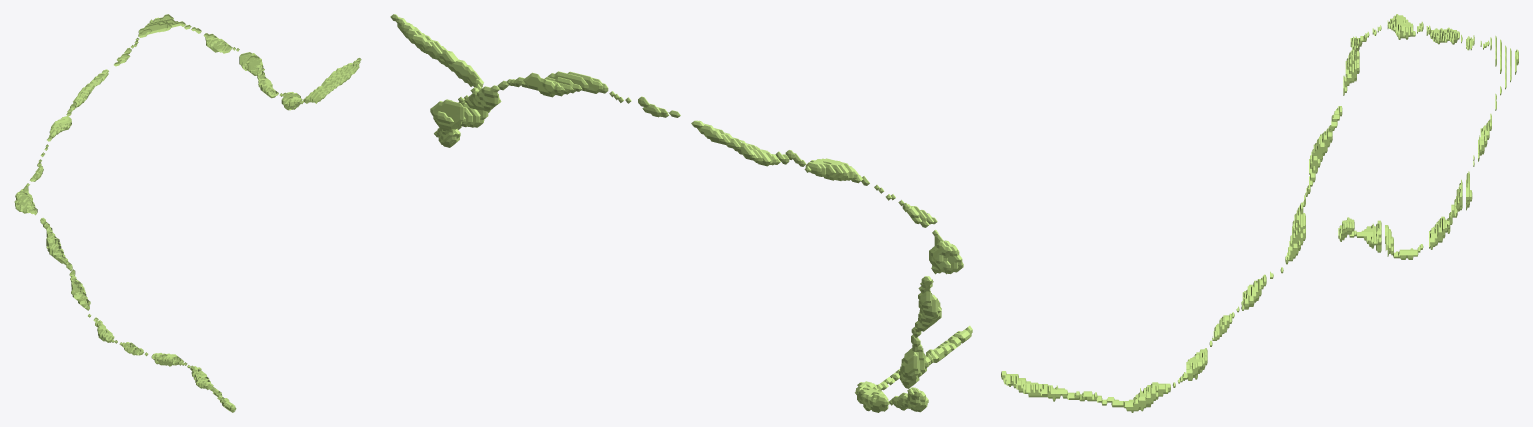
The model's file is SVV_SIADL.gltf.
3 views of the same model, side by side, from view 1: azimuth 30°, elevation 25°; view 2: azimuth 150°, elevation 25°; view 3: azimuth 270°, elevation 25° (orthographic). The views are drawn at different scales.
Visible parts, largest first — view 1: SIADL; view 2: SIADL; view 3: SIADL.
Boxes of the visible parts, x1,y1,x2,y2 form: SIADL: [14, 14, 361, 412]; SIADL: [390, 14, 972, 412]; SIADL: [1001, 14, 1518, 412].
Bounding box in the file's own units: 97842 × 72223 × 81209.
